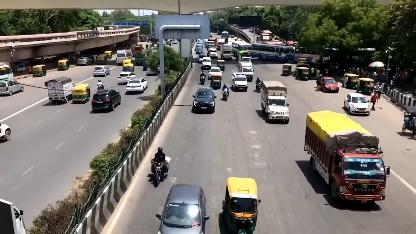auto-rikshaw: (220, 174, 262, 234), (357, 77, 375, 94), (343, 73, 360, 88), (295, 67, 310, 80), (211, 73, 221, 89), (283, 63, 292, 76), (217, 59, 225, 71), (367, 78, 374, 81)
bike: (148, 158, 170, 186), (220, 86, 230, 102), (198, 74, 208, 84)
bus: (251, 43, 295, 61), (230, 40, 249, 58)
car: (153, 182, 207, 234), (190, 86, 218, 116), (344, 93, 371, 115), (318, 76, 340, 92), (209, 67, 222, 79), (201, 57, 212, 69)
priority: (230, 70, 248, 93)
truck: (302, 110, 390, 204), (258, 80, 294, 124), (238, 61, 254, 81), (221, 45, 233, 61)
